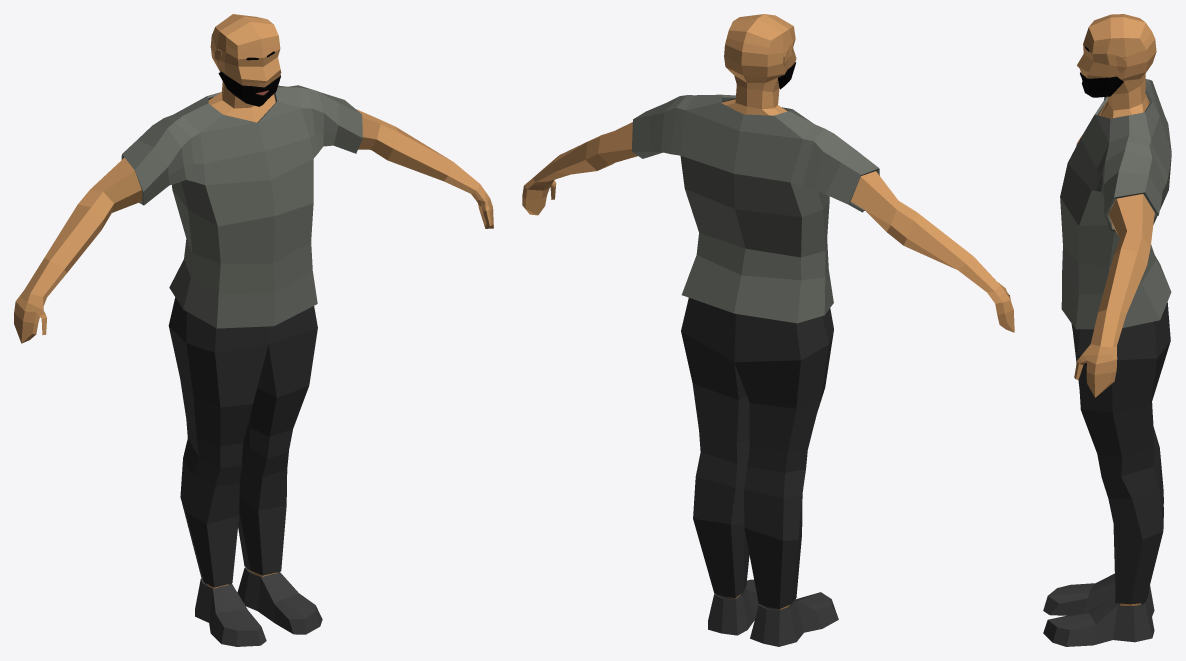
Rendered from Npc4.fbx.
3 views of the same model, side by side, from view 1: azimuth 30°, elevation 25°; view 2: azimuth 150°, elevation 25°; view 3: azimuth 270°, elevation 25° (orthographic). The views are drawn at different scales.
Parts seen in each view (by area): view 1: Body.003; view 2: Body.003; view 3: Body.003.
Part boxes in pixels (left/top/right/bottom): Body.003: left=14, top=14, right=493, bottom=646; Body.003: left=522, top=14, right=1014, bottom=646; Body.003: left=1043, top=14, right=1171, bottom=646.
Size of the model in its own units: 537 by 646 by 124.
